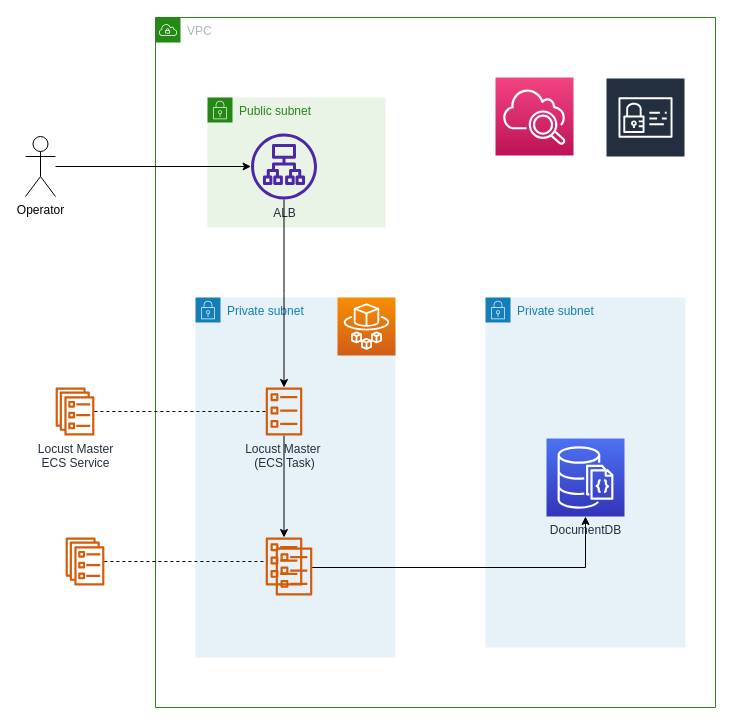
Image size: 733x725. Some labels were removed from this diagram. Here are the shapes that lost their labels. From the top down, the centre of each, then its label:
At [534,116]: "CloudWatch".
At [645,137]: "AWS Identity and Access Management".
At [84,561]: "Locust workers ECS Service".
At [293,571]: "Locust Swarm (worker ECS Tasks)".
